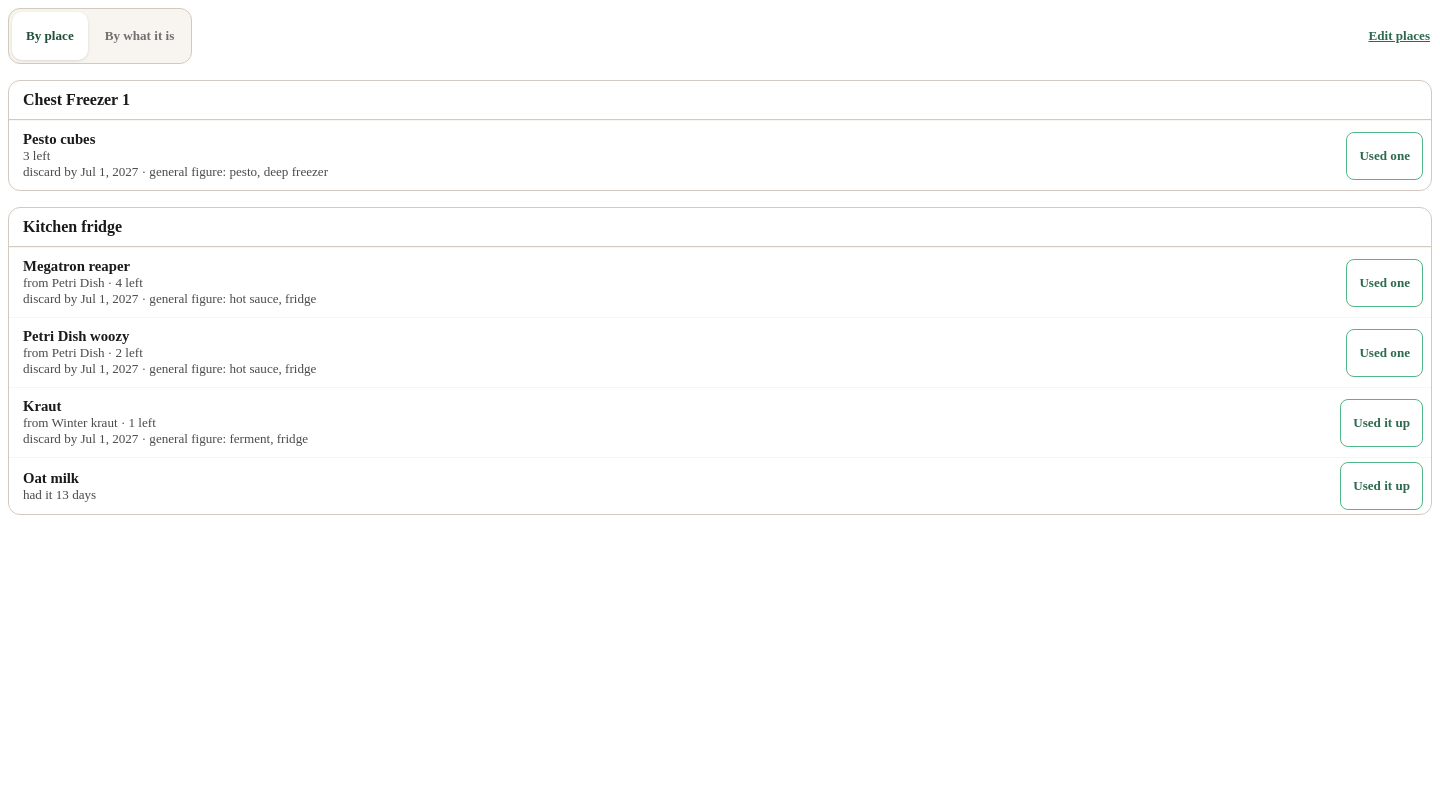
Test case: What went in → from BOTH hosts — and never from Walk a place › the Pantry list: the door is there once the batch is named, and opens it from the Pantry
Click the button with test id "pantry-row-open-put_up:jar-reaper" at (76, 266), box x1=17 y1=252 x2=1338 y2=313
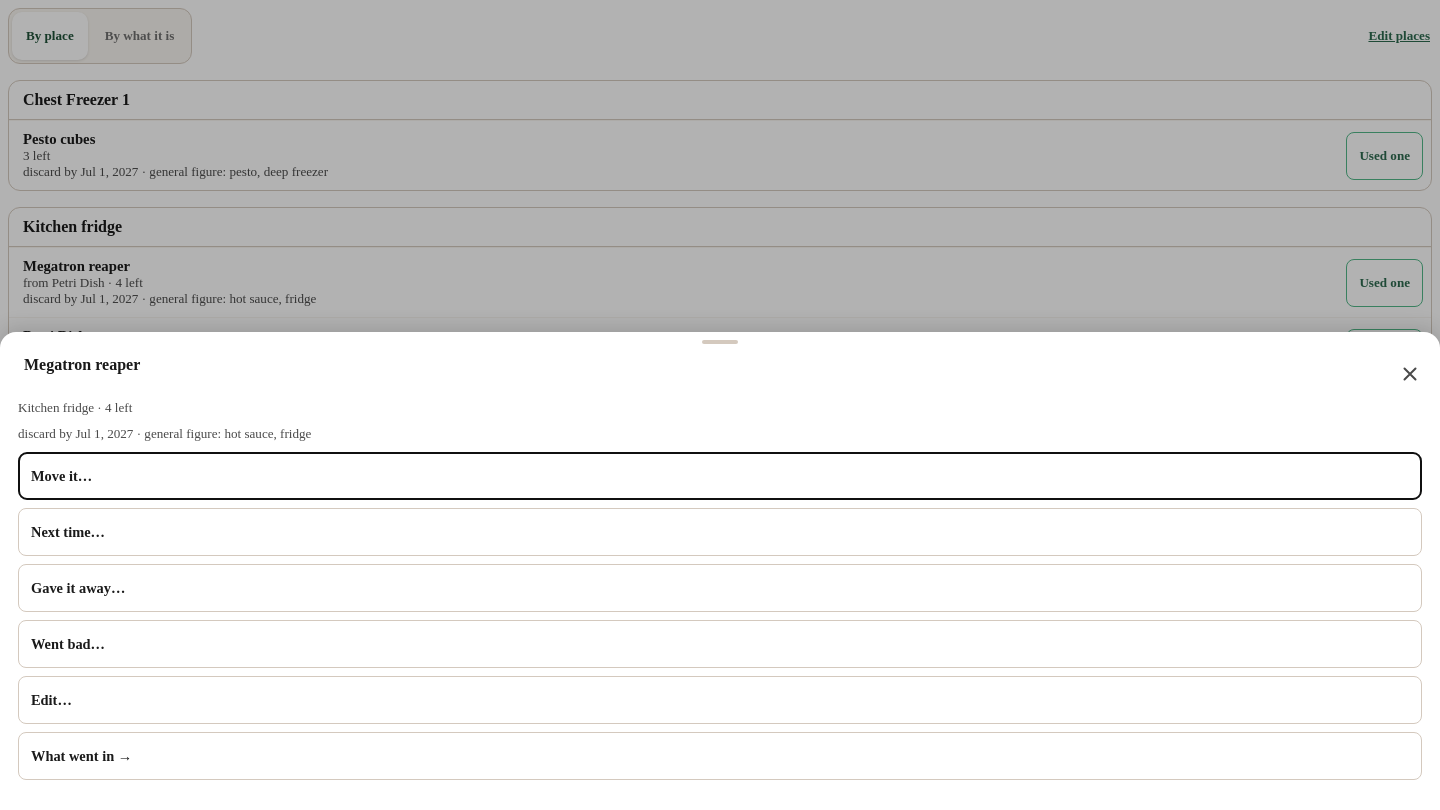
Click the button with test id "row-what-went-in" at (82, 756), box x1=18 y1=732 x2=1422 y2=780
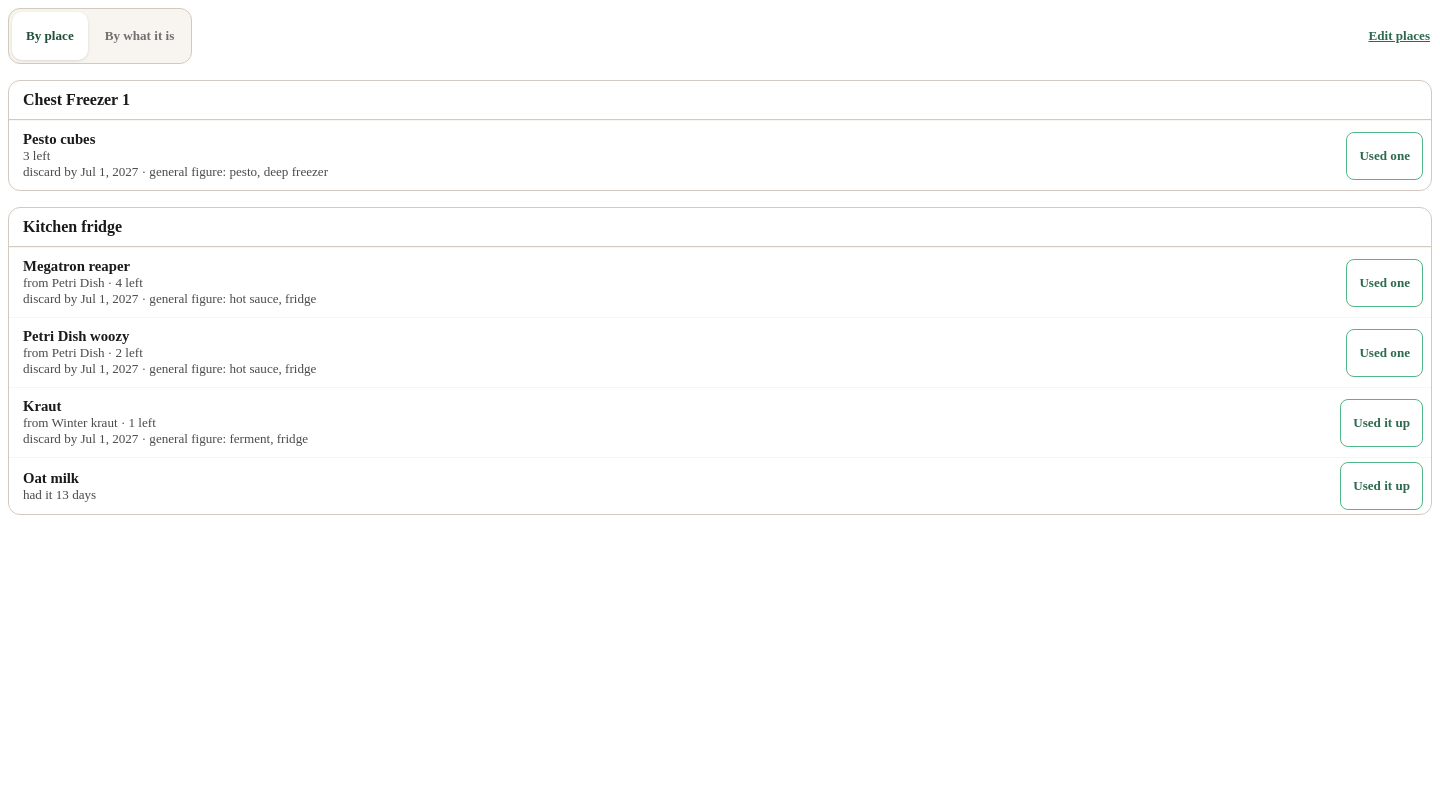
Result: the element with test id "row-sheet" is gone
